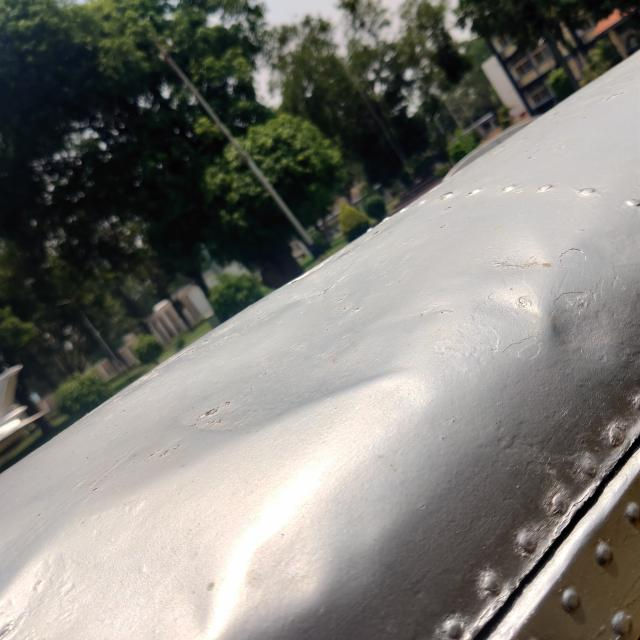dent: (156, 218, 461, 467), (527, 277, 634, 388)
